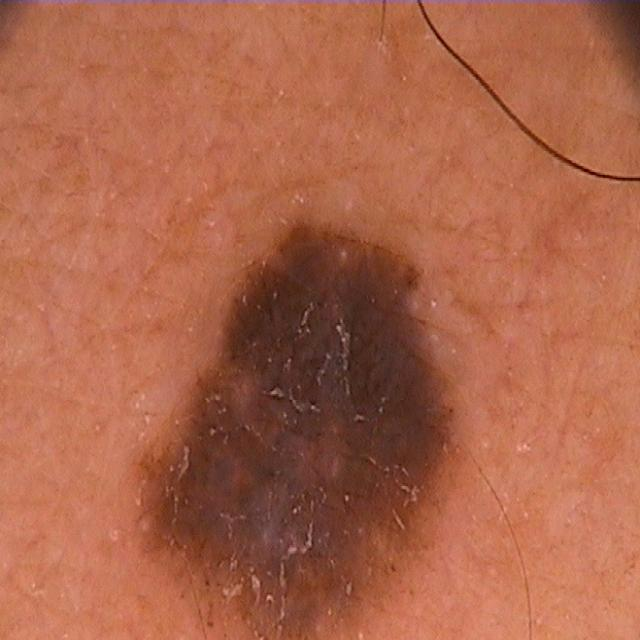Melanoma: (95, 158, 513, 640)
